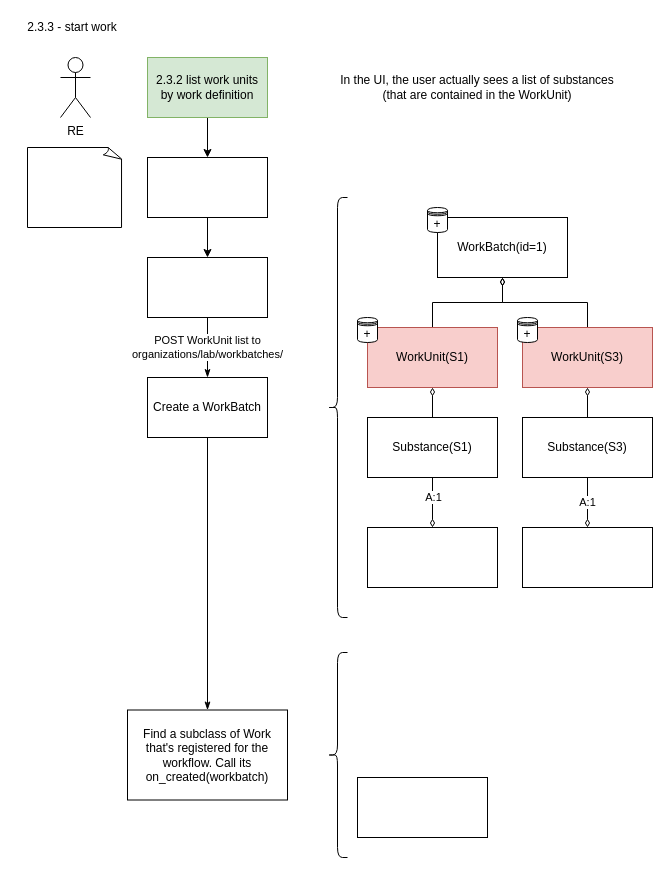
This 670x875 diagram has some shape labels left out. Here are the shapes that lost their labels. From the top down, the centre of each, then its label:
point (74, 187): C1["A:1"] = S1 C1["B:2"] = S2 C2["A:1"] = S3
point (207, 187): Select S1@C1 and S3@C2
point (207, 287): Press "Start Work"
point (432, 557): Container(name=C1)
point (587, 557): Container(name=C2)
point (422, 807): Container(name=C3) temporary=True
